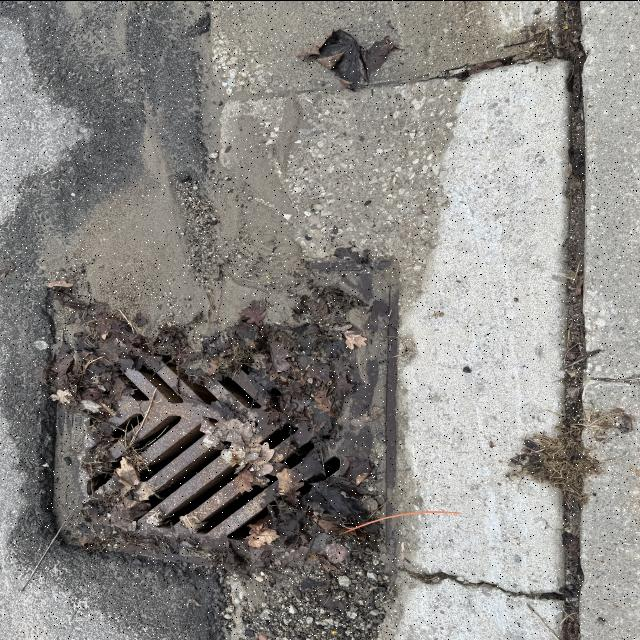Manhole: (37, 260, 404, 548)
